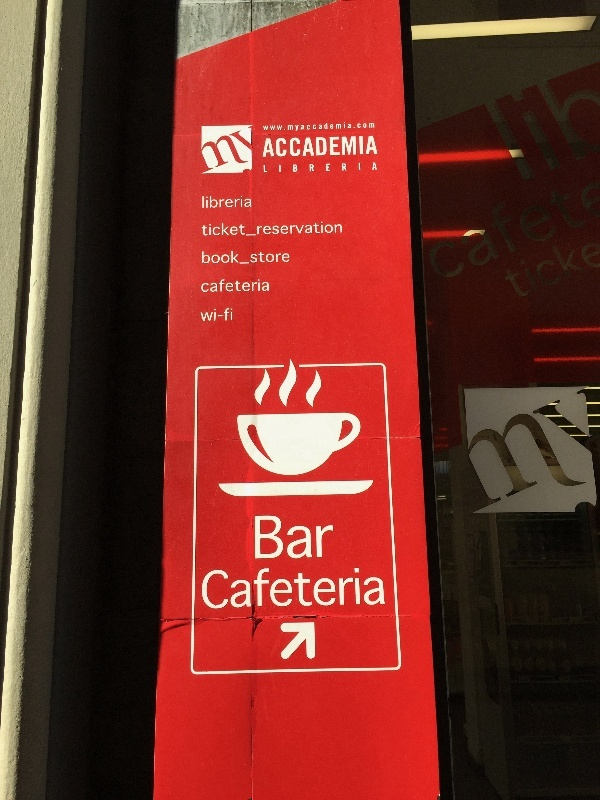text: (465, 374, 480, 533), (481, 374, 496, 533), (497, 374, 512, 533), (513, 374, 528, 533), (529, 374, 544, 533), (545, 374, 560, 533), (561, 374, 576, 533), (577, 374, 592, 533), (433, 148, 448, 295), (449, 148, 464, 295), (465, 148, 480, 295), (481, 148, 496, 295), (497, 148, 512, 295), (513, 148, 528, 295), (529, 148, 544, 295), (545, 148, 560, 295), (561, 148, 576, 295), (577, 148, 592, 295), (497, 61, 512, 191), (513, 61, 528, 191), (529, 61, 544, 191), (545, 61, 560, 191), (561, 61, 576, 191), (577, 61, 592, 191), (482, 61, 496, 191), (422, 148, 432, 295), (513, 220, 528, 308), (529, 220, 544, 308), (545, 220, 560, 308), (561, 220, 576, 308), (577, 220, 592, 308), (500, 220, 512, 308), (593, 148, 599, 295), (209, 121, 224, 177), (225, 121, 240, 177), (593, 61, 599, 191), (257, 513, 272, 564), (273, 513, 288, 564), (289, 513, 304, 564), (305, 513, 320, 564), (209, 564, 224, 613), (225, 564, 240, 613), (241, 564, 256, 613), (257, 564, 272, 613), (273, 564, 288, 613), (289, 564, 304, 613), (305, 564, 320, 613), (321, 564, 336, 613), (337, 564, 352, 613), (353, 564, 368, 613), (369, 564, 384, 613), (241, 121, 254, 177), (321, 513, 335, 564), (593, 374, 597, 533), (198, 121, 208, 177), (593, 220, 599, 308), (273, 135, 288, 159), (289, 135, 304, 159), (305, 135, 320, 159), (321, 135, 336, 159), (337, 135, 352, 159), (353, 135, 368, 159), (201, 564, 208, 613), (462, 374, 464, 533), (209, 306, 224, 326), (209, 276, 224, 295), (225, 276, 240, 295), (241, 276, 256, 295), (209, 249, 224, 268), (225, 249, 240, 268), (241, 249, 256, 268), (257, 249, 272, 268), (273, 249, 288, 268), (209, 220, 224, 238), (225, 220, 240, 238), (241, 220, 256, 238), (257, 220, 272, 238), (273, 220, 288, 238), (289, 220, 304, 238), (305, 220, 320, 238), (321, 220, 336, 238), (257, 276, 271, 295), (209, 194, 224, 211), (225, 194, 240, 211), (369, 135, 379, 159), (241, 194, 253, 211), (273, 161, 288, 174), (289, 161, 304, 174), (305, 161, 320, 174), (321, 161, 336, 174), (337, 161, 352, 174), (353, 161, 368, 174), (273, 121, 288, 134), (289, 121, 304, 134), (305, 121, 320, 134), (321, 121, 336, 134), (337, 121, 352, 134), (353, 121, 368, 134), (199, 306, 208, 326), (225, 306, 234, 326), (253, 513, 256, 564), (266, 135, 272, 159), (201, 276, 208, 295), (201, 249, 208, 268), (201, 220, 208, 238), (337, 220, 344, 238), (263, 161, 272, 174), (369, 161, 378, 174), (263, 121, 272, 134), (202, 194, 208, 211), (385, 564, 387, 613), (369, 121, 376, 134), (289, 249, 291, 268)
